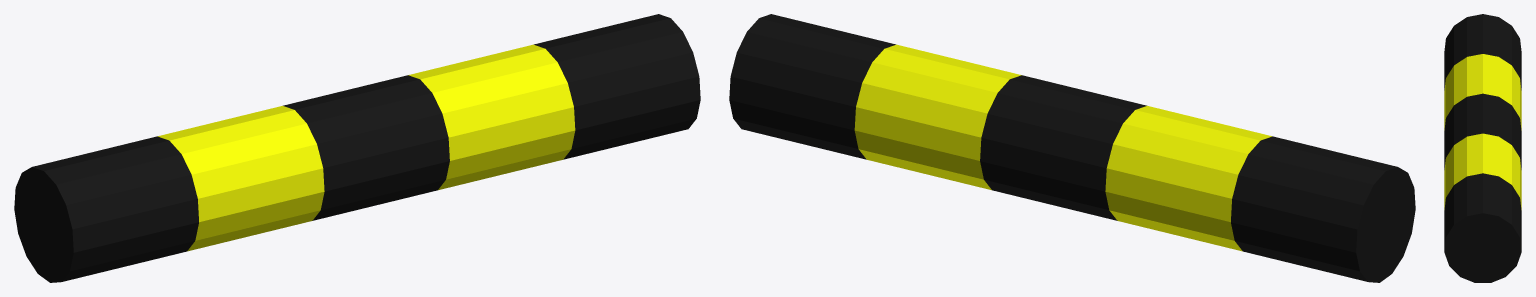
Rendered from cpsMap_Speedbump.obj.
3 views of the same model, side by side, from view 1: azimuth 30°, elevation 25°; view 2: azimuth 150°, elevation 25°; view 3: azimuth 270°, elevation 25° (orthographic). The views are drawn at different scales.
Parts seen in each view (by area): view 1: Cylinder_Cylinder.002; view 2: Cylinder_Cylinder.002; view 3: Cylinder_Cylinder.002.
Part boxes in pixels (x1=…): Cylinder_Cylinder.002: x1=14, y1=14, x2=700, y2=282; Cylinder_Cylinder.002: x1=729, y1=14, x2=1415, y2=282; Cylinder_Cylinder.002: x1=1444, y1=14, x2=1521, y2=282.
Bounding box in the file's own units: 12.1 × 1.98 × 1.99.
